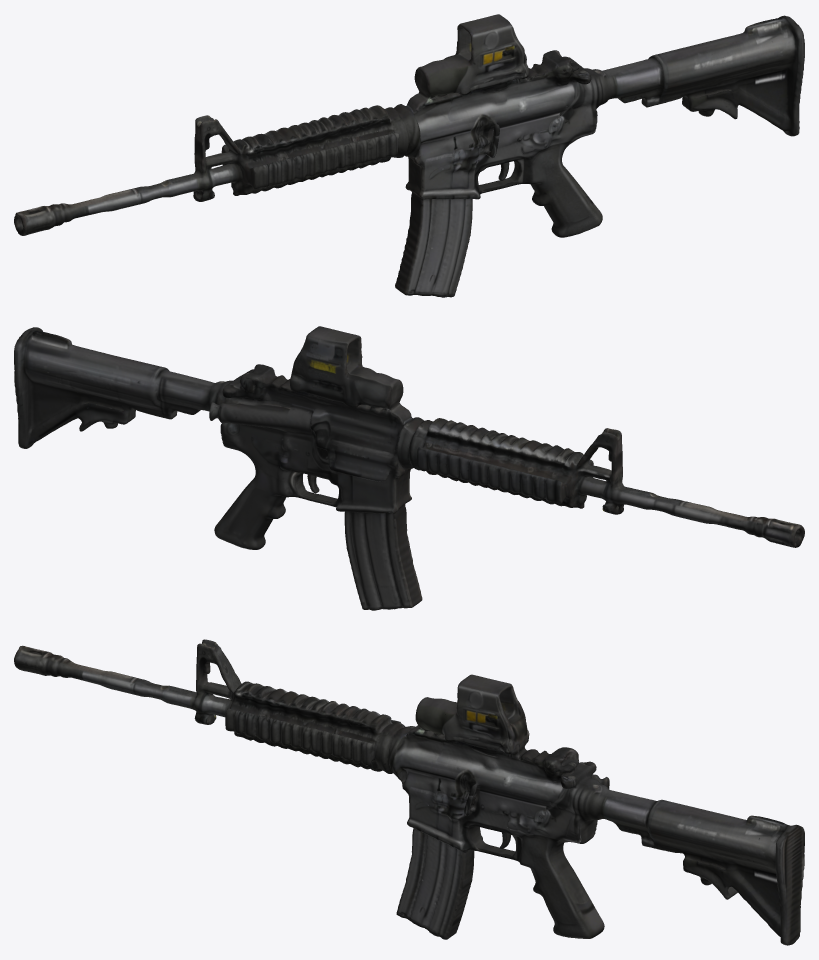
The model's file is rifle.glb.
3 views of the same model, one above another, from view 1: azimuth 30°, elevation 25°; view 2: azimuth 150°, elevation 25°; view 3: azimuth 330°, elevation 25° (orthographic).
Size of the model in its own units: 2.01 by 0.6515 by 0.1652.
1 material, 1 textured.
